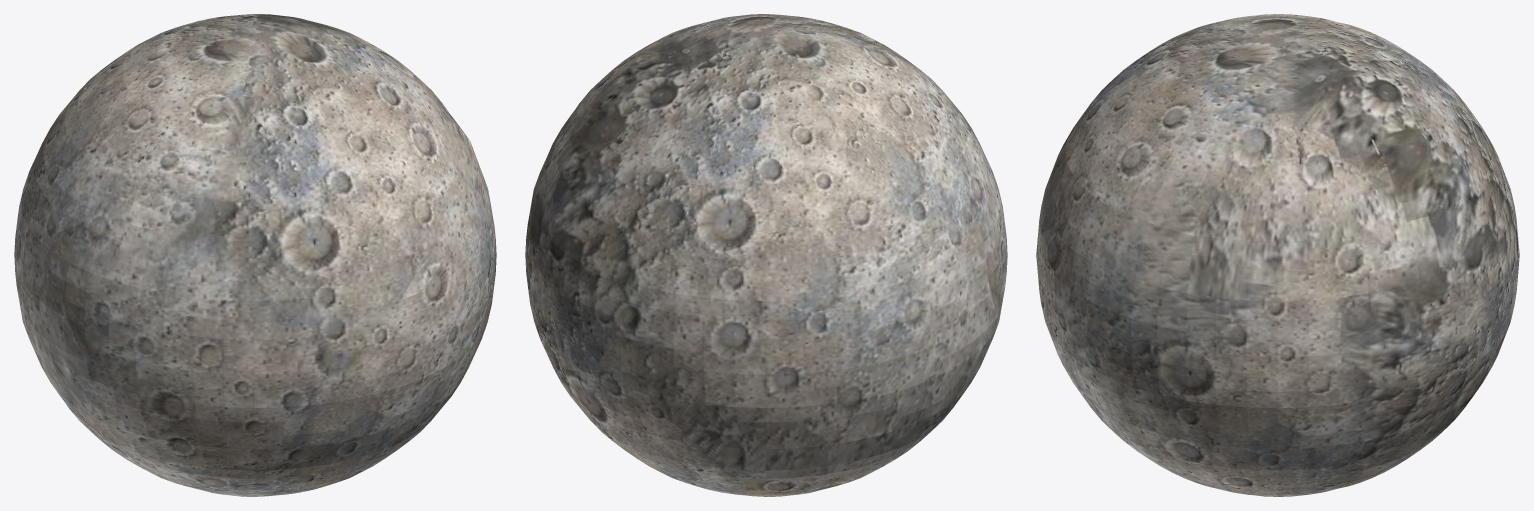
Rendered from moon_01.glb.
The picture shows the model from 3 angles, left to right: view 1: azimuth 30°, elevation 25°; view 2: azimuth 150°, elevation 25°; view 3: azimuth 270°, elevation 25°; orthographic projection.
Visible parts, largest first — view 1: Mesh_0; view 2: Mesh_0; view 3: Mesh_0.
Boxes of the visible parts, x1,y1,x2,y2 form: Mesh_0: (14, 14, 496, 496); Mesh_0: (525, 14, 1007, 496); Mesh_0: (1036, 14, 1519, 496).
Bounding box in the file's own units: 1.91 × 1.91 × 1.91.
1 material, 1 textured.
